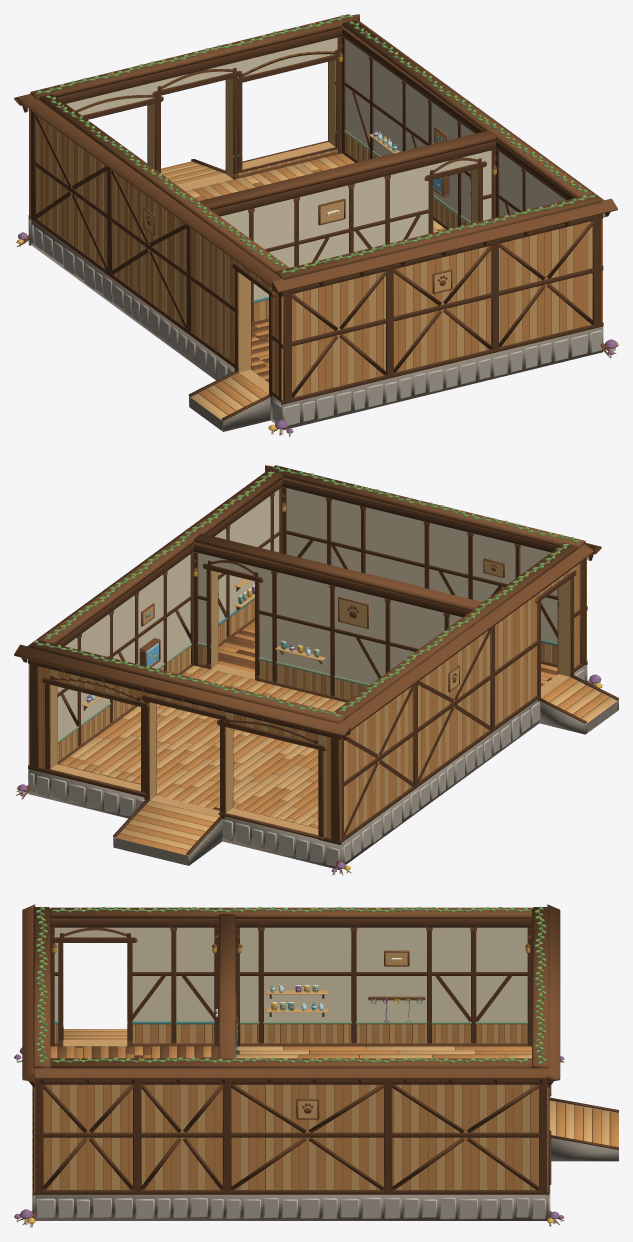
Rendered from ShopBuilding.fbx.
The picture shows the model from 3 angles, top to bottom: view 1: azimuth 30°, elevation 25°; view 2: azimuth 150°, elevation 25°; view 3: azimuth 270°, elevation 25°; orthographic projection. The views are drawn at different scales.
Visible parts, largest first — view 1: ShopBuilding; view 2: ShopBuilding; view 3: ShopBuilding.
Boxes of the visible parts, x1,y1,x2,y2 form: ShopBuilding: [14, 14, 618, 436]; ShopBuilding: [14, 465, 618, 875]; ShopBuilding: [14, 904, 618, 1227].
Bounding box in the file's own units: 15.71 × 6.16 × 21.23.
